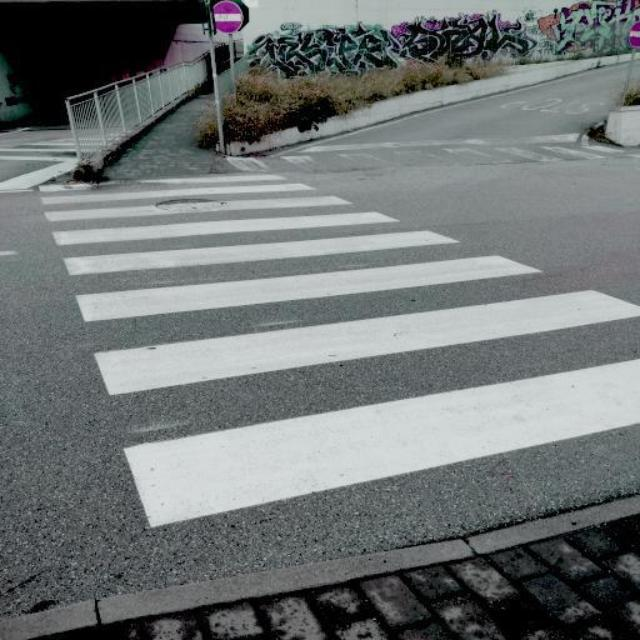sidewalk: (37, 165, 637, 542)
